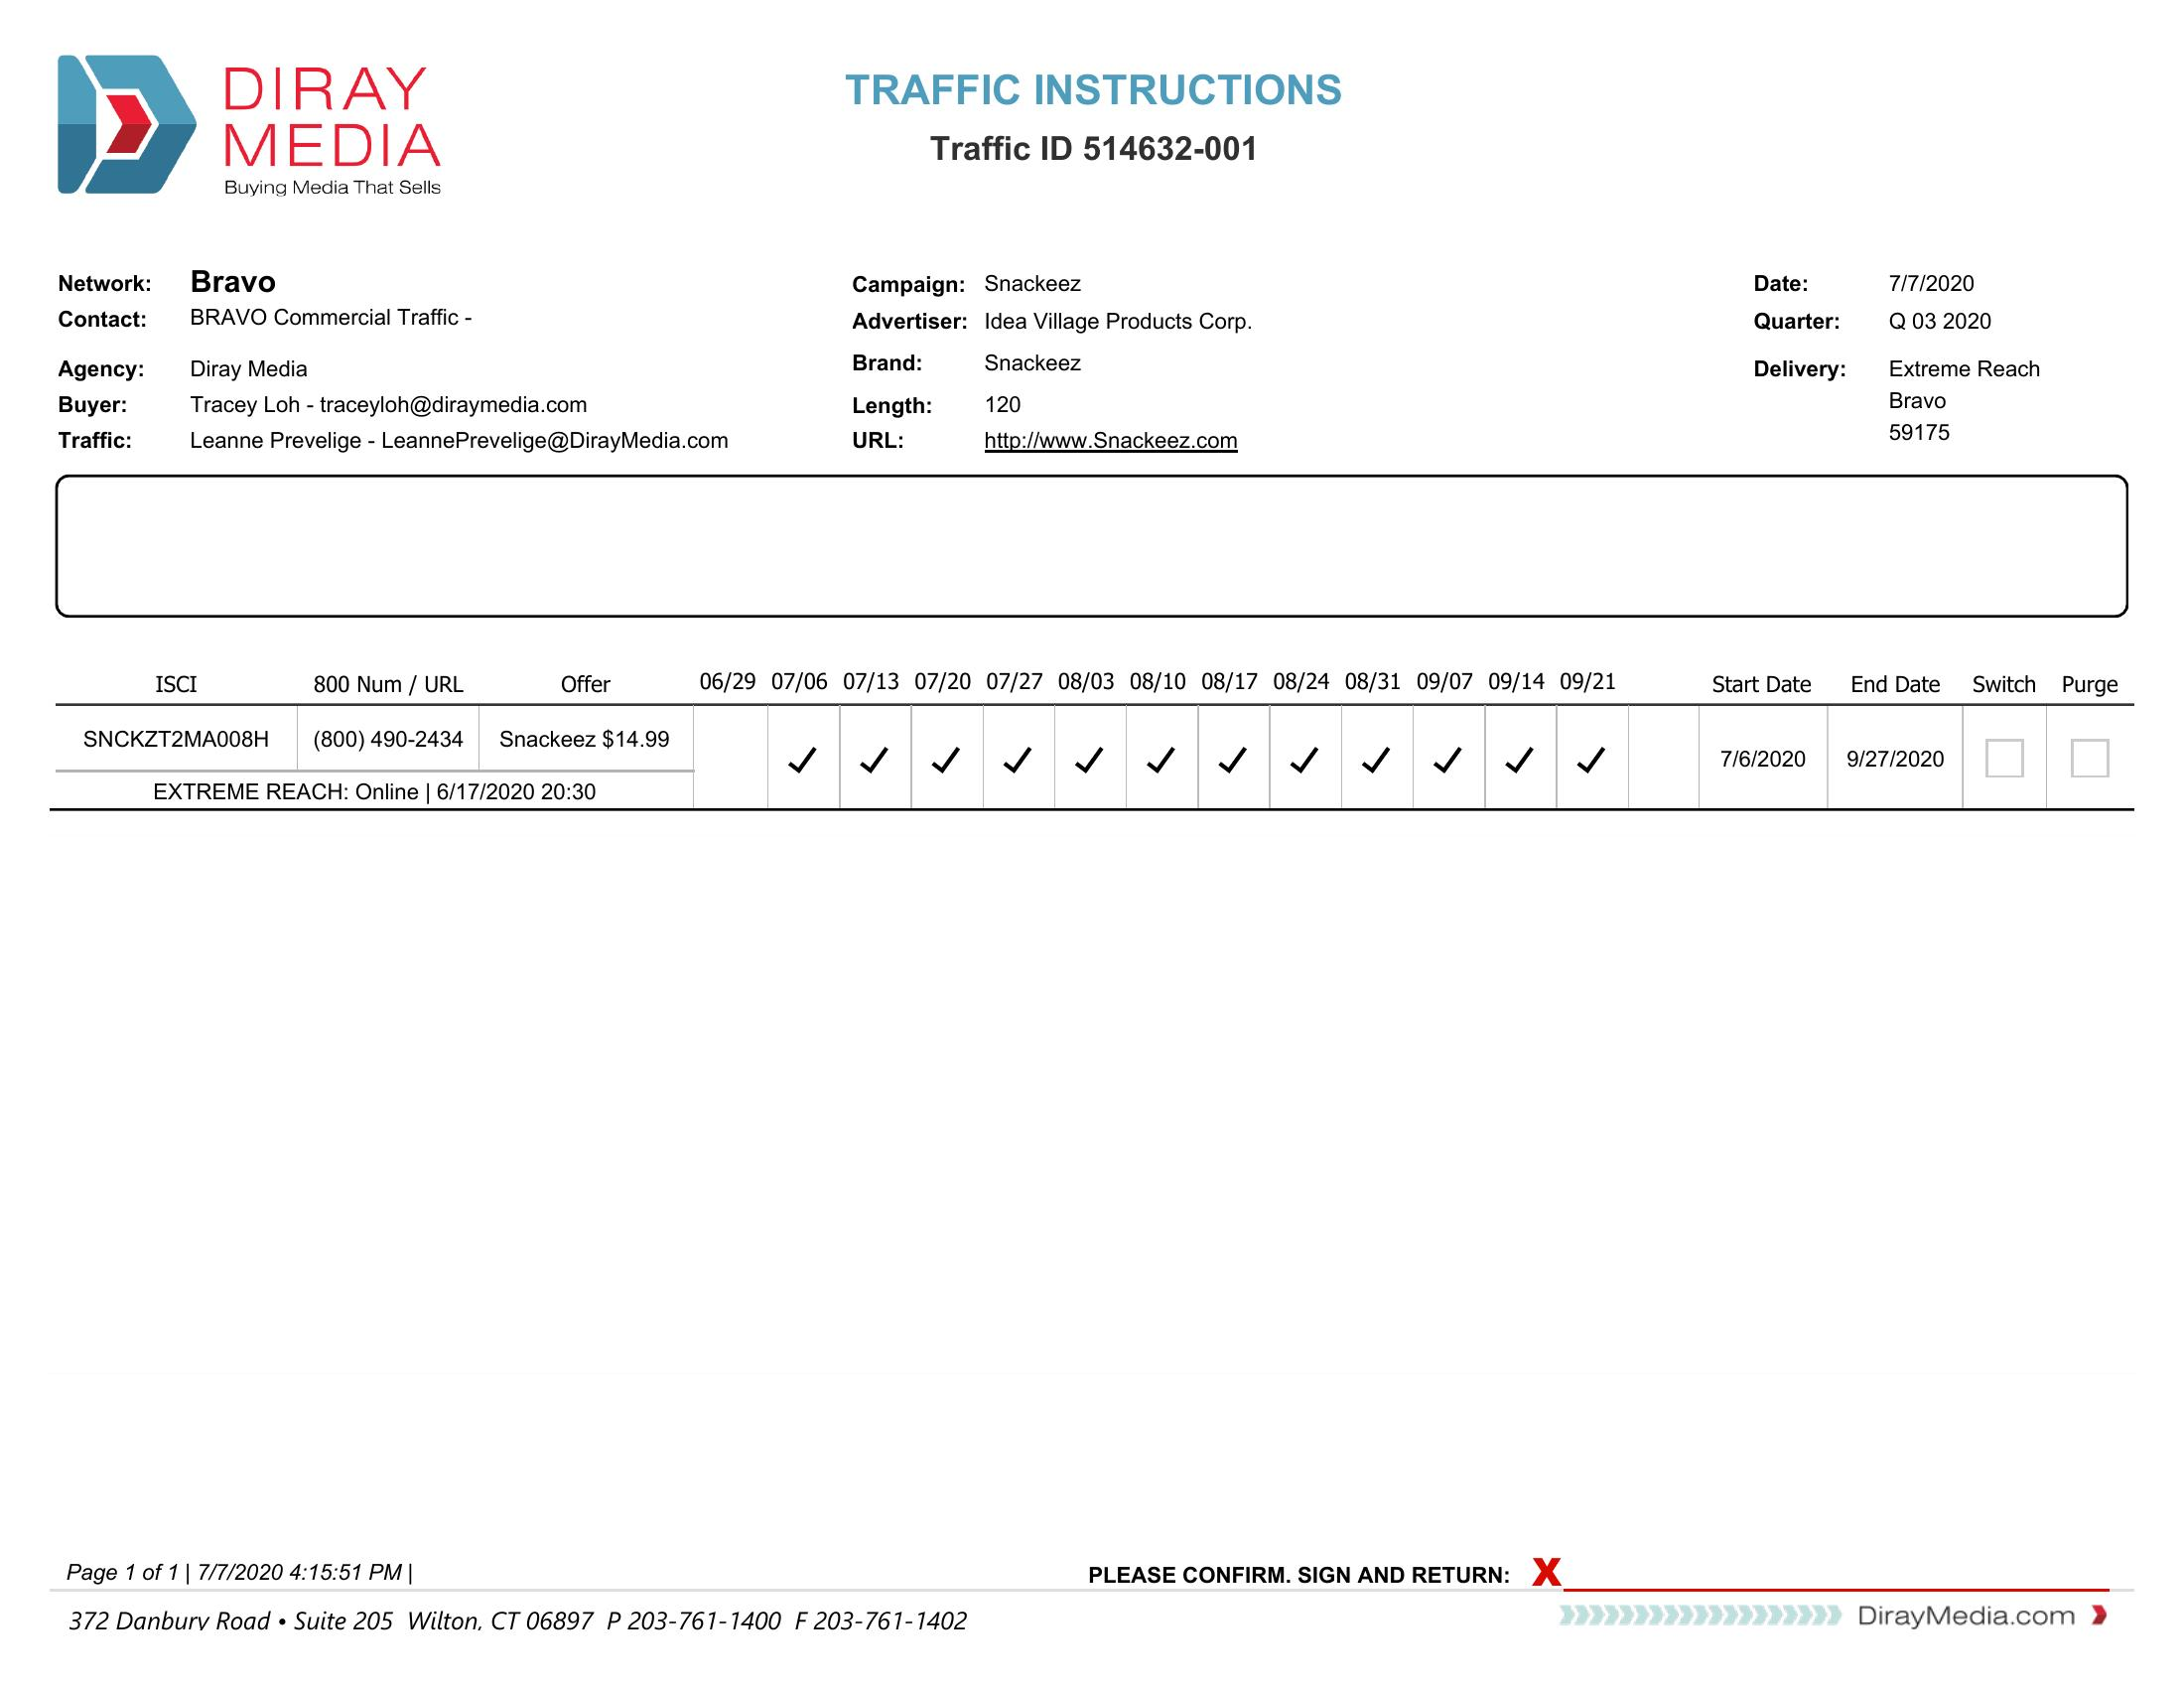table: (41, 642, 2170, 840), (46, 259, 2063, 466)
